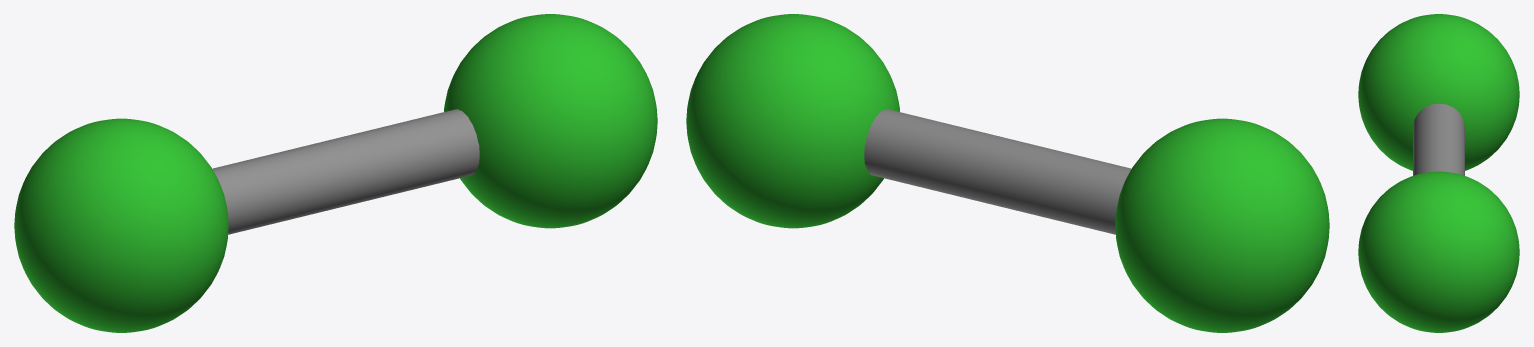
Rendered from chlor.glb.
3 renders of one model, left to right at view 1: azimuth 30°, elevation 25°; view 2: azimuth 150°, elevation 25°; view 3: azimuth 270°, elevation 25°, orthographic. The views are drawn at different scales.
Parts seen in each view (by area): view 1: Cl_1, Cl_0, B0; view 2: Cl_1, Cl_0, B0; view 3: Cl_0, Cl_1, B0.
Part boxes in pixels (bbox=[...]): Cl_1: bbox=[14, 118, 228, 332]; Cl_0: bbox=[444, 14, 657, 228]; B0: bbox=[212, 109, 479, 234]; Cl_1: bbox=[1115, 118, 1329, 332]; Cl_0: bbox=[686, 14, 899, 228]; B0: bbox=[864, 109, 1131, 234]; Cl_0: bbox=[1358, 171, 1519, 332]; Cl_1: bbox=[1358, 14, 1519, 170]; B0: bbox=[1413, 103, 1464, 175].
Size of the model in its own units: 2.9 by 0.875 by 0.875.
